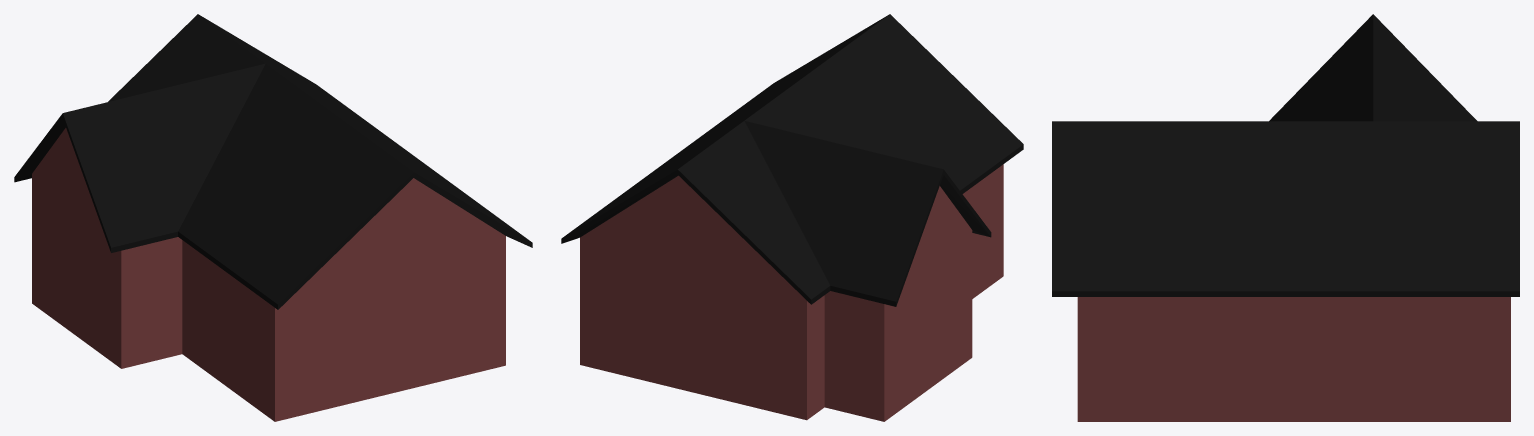
File: House two.fbx
3 renders of one model, left to right at view 1: azimuth 30°, elevation 25°; view 2: azimuth 150°, elevation 25°; view 3: azimuth 270°, elevation 25°, orthographic. The views are drawn at different scales.
Visible parts, largest first — view 1: pCube1; view 2: pCube1; view 3: pCube1.
Boxes of the visible parts, <box> form: pCube1: <box>14,14,532,421</box>; pCube1: <box>561,14,1023,421</box>; pCube1: <box>1052,14,1519,421</box>.
Bounding box in the file's own units: 1.92 × 1.3 × 2.23.
